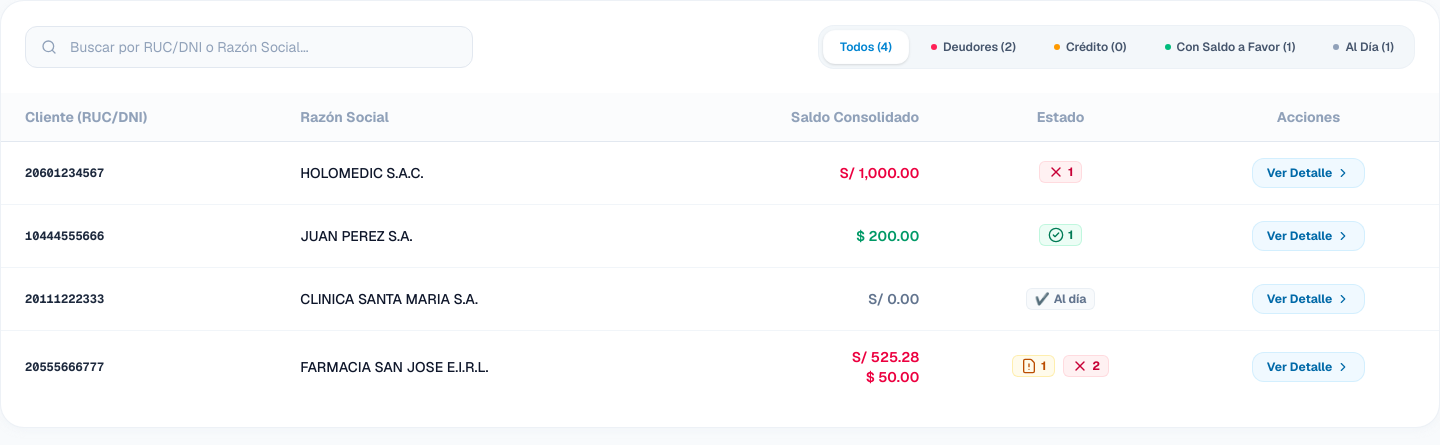
Test: ClientList Component › debe filtrar clientes por Razón Social o RUC usando el campo de búsqueda
The image size is (1440, 445).
Step 1. Type "Perez" into the field with placeholder "Buscar por RUC/DNI o Razón Social..." → x=249, y=47, box [25,26,473,68]
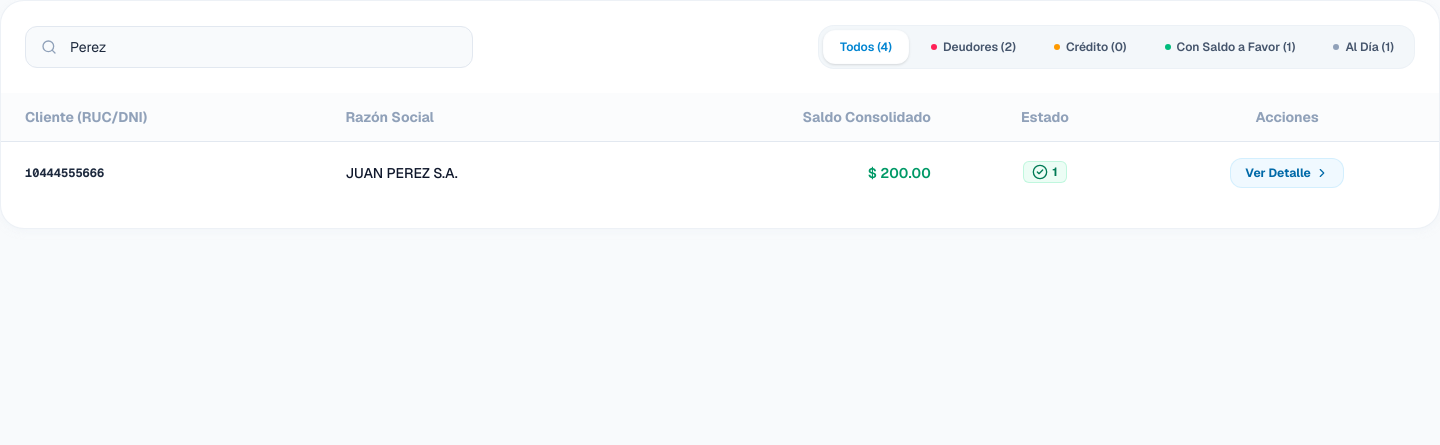
Expected: the text "JUAN PEREZ S.A." is shown, [322,142,623,204]
Result: the text "HOLOMEDIC S.A.C." is gone
Result: the text "CLINICA SANTA MARIA S.A." is gone
// Buscar por RUC
Step 2. Replace the text in the field with placeholder "Buscar por RUC/DNI o Razón Social..." with "20601234567" → x=249, y=47, box [25,26,473,68]
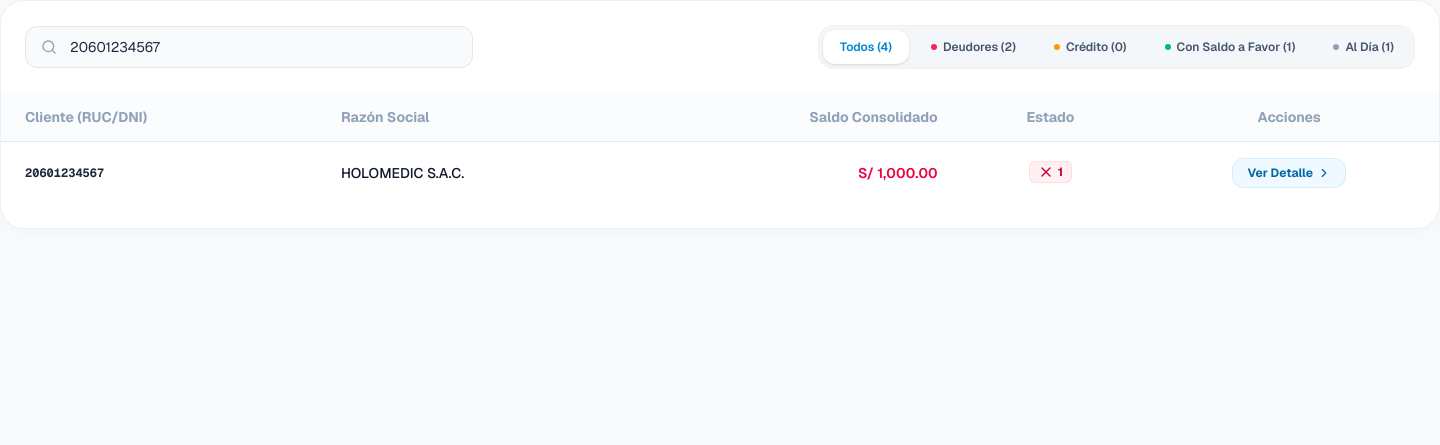
Result: the text "HOLOMEDIC S.A.C." is shown at [317,142,634,204]
Result: the text "JUAN PEREZ S.A." is gone
